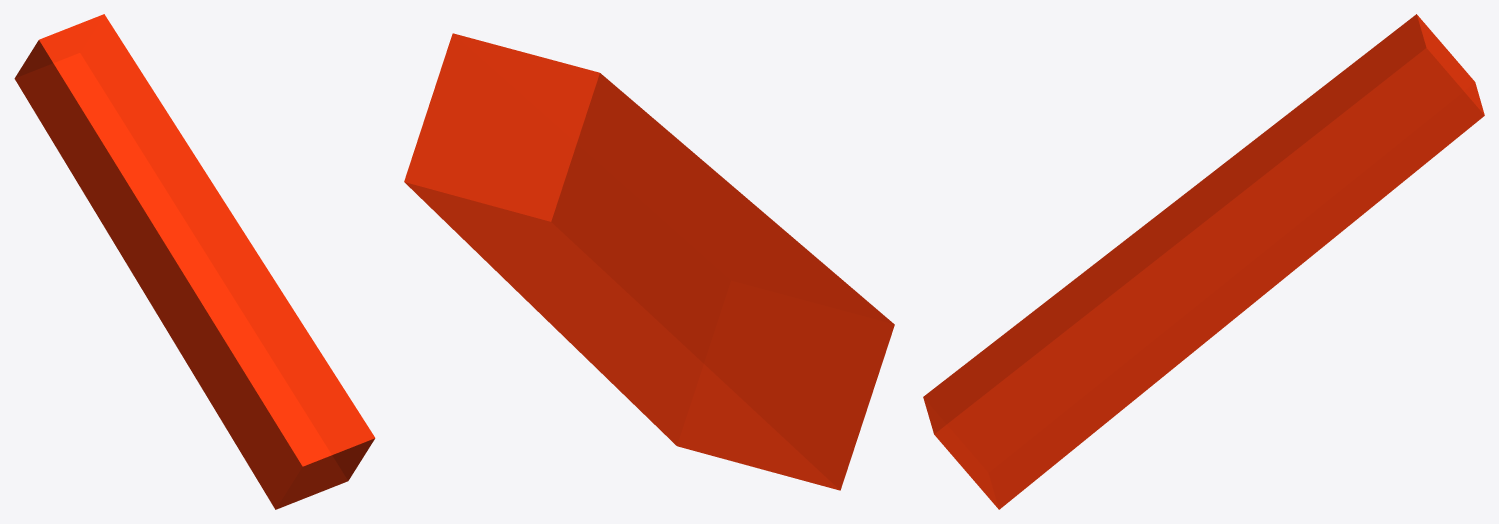
The model's file is Event_421278790_EBrechit_3.fbx.
The picture shows the model from 3 angles, left to right: view 1: azimuth 30°, elevation 25°; view 2: azimuth 150°, elevation 25°; view 3: azimuth 270°, elevation 25°; orthographic projection. The views are drawn at different scales.
Visible parts, largest first — view 1: Model; view 2: Model; view 3: Model.
Part boxes in pixels (left/top/right/bottom): Model: left=14, top=14, right=375, bottom=509; Model: left=404, top=33, right=894, bottom=490; Model: left=923, top=14, right=1484, bottom=509.
Size of the model in its own units: 0.1094 by 0.2774 by 0.3273.
